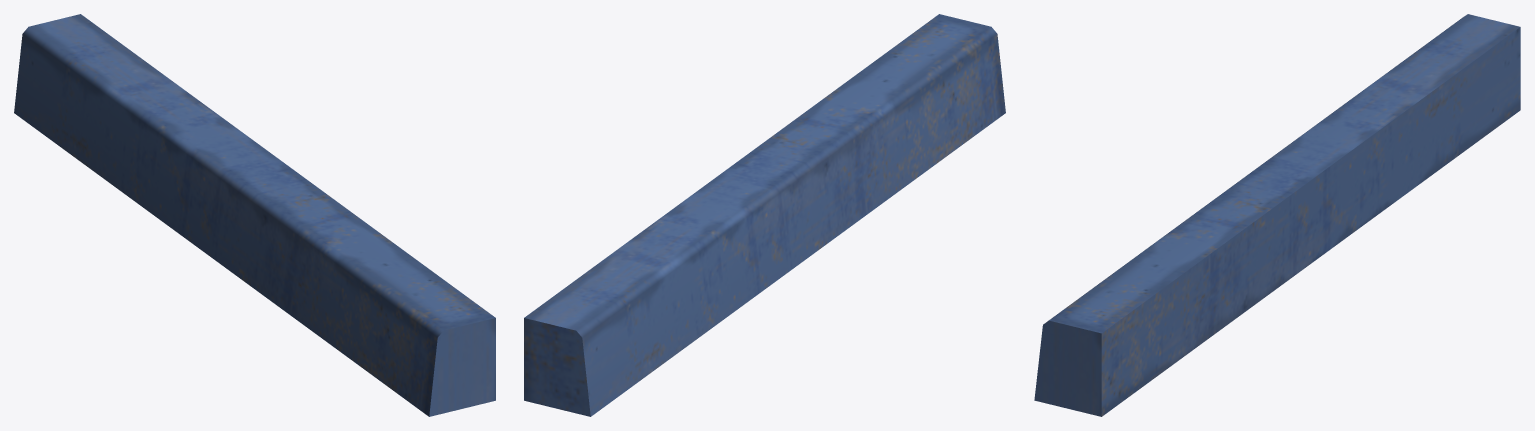
Rendered from MB_Curbstone_Blue_1m.fbx.
The picture shows the model from 3 angles, left to right: view 1: azimuth 30°, elevation 25°; view 2: azimuth 150°, elevation 25°; view 3: azimuth 330°, elevation 25°; orthographic projection.
Parts seen in each view (by area): view 1: MB_Curbstone_Blue_1m; view 2: MB_Curbstone_Blue_1m; view 3: MB_Curbstone_Blue_1m.
Boxes of the visible parts, <box> form: MB_Curbstone_Blue_1m: <box>14,14,495,416</box>; MB_Curbstone_Blue_1m: <box>524,14,1005,416</box>; MB_Curbstone_Blue_1m: <box>1034,14,1520,416</box>.
Bounding box in the file's own units: 9.28 × 11 × 100.
